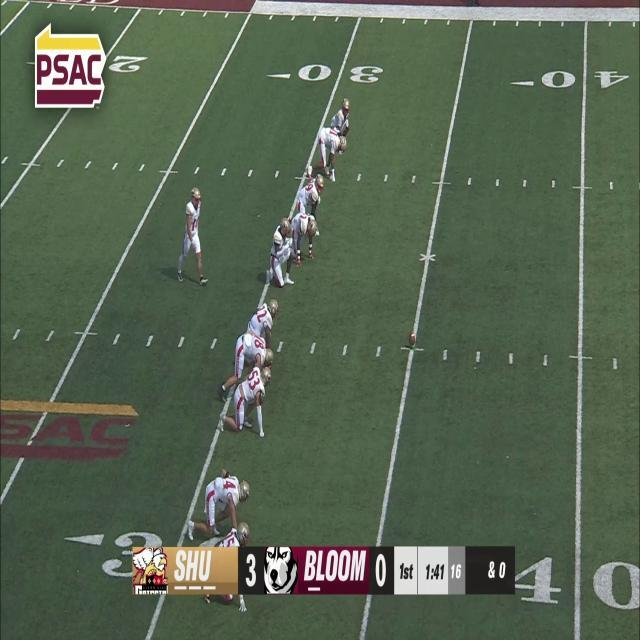football: (408, 330, 416, 352)
